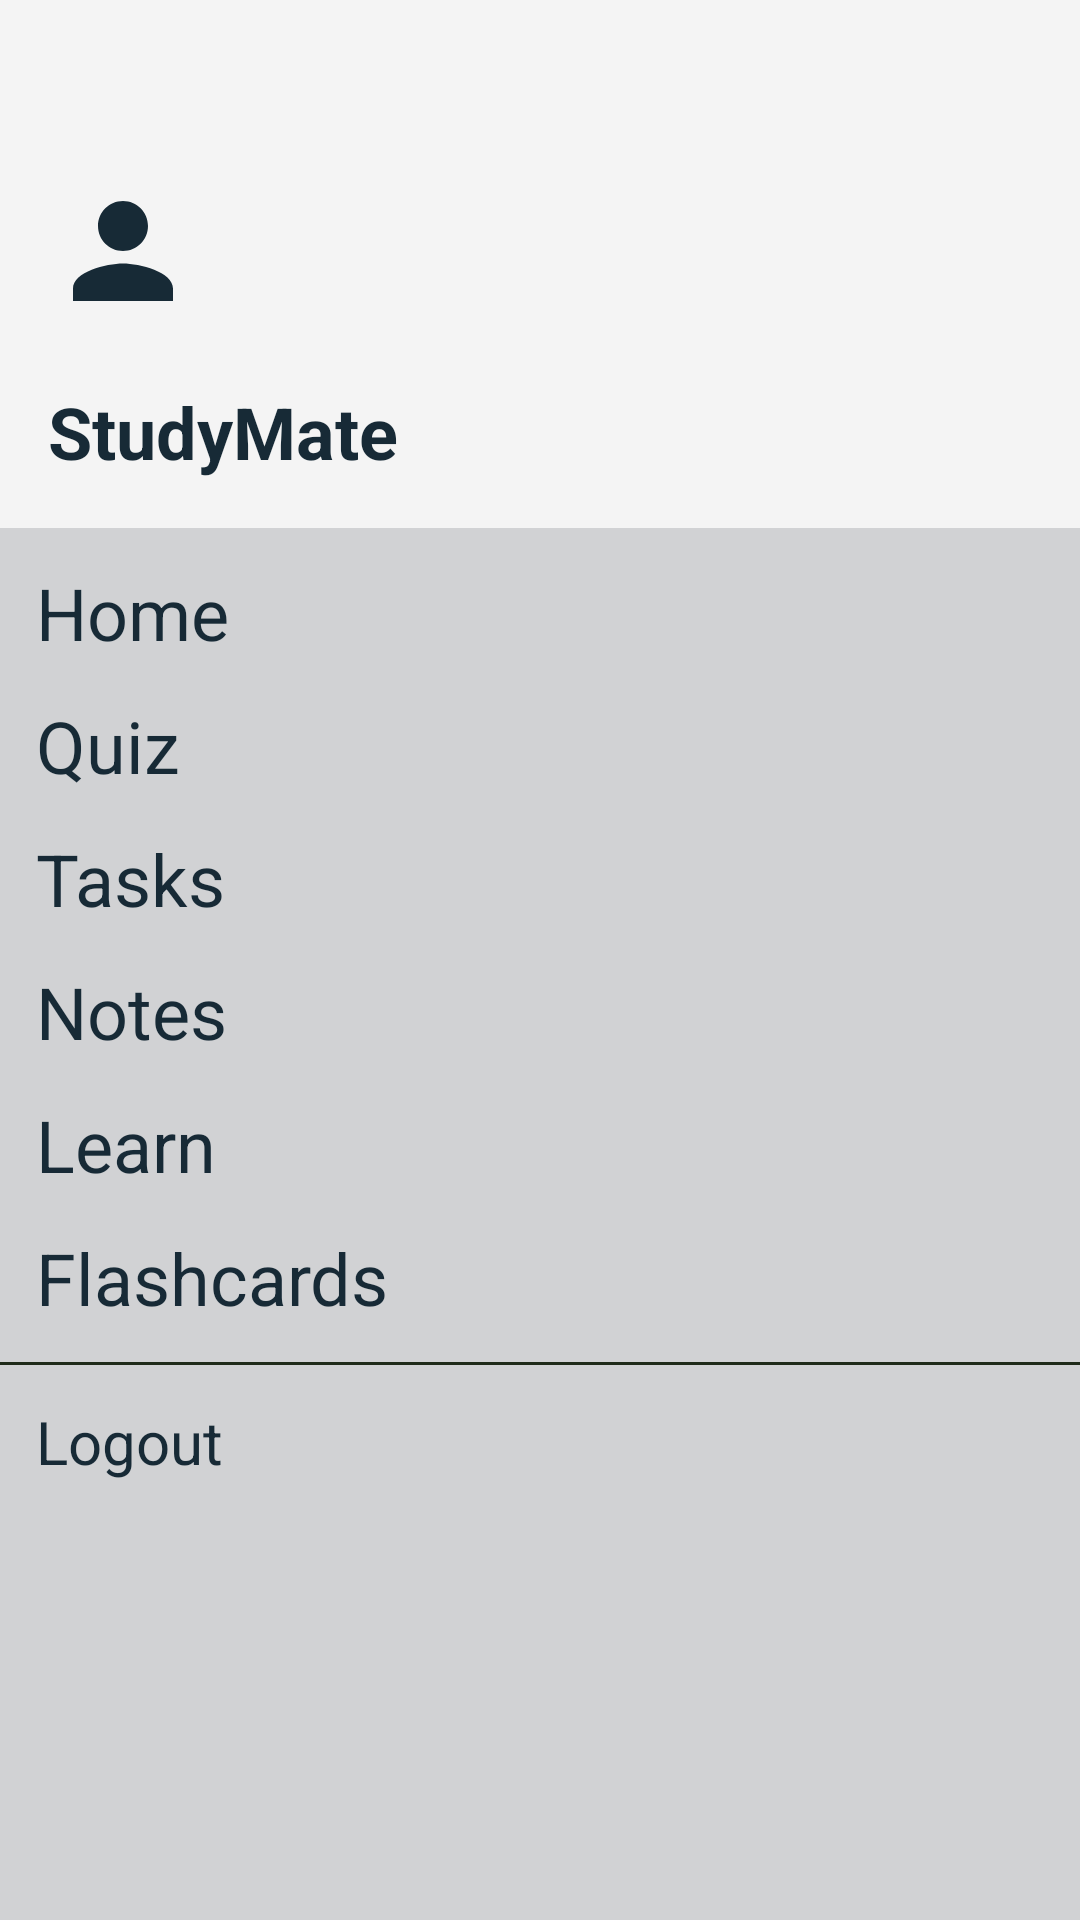

Icon bounding boxes for this 1080px×1920px phone screenshot, format (x1, y1, x2, y2):
person: (73, 201, 173, 301)
